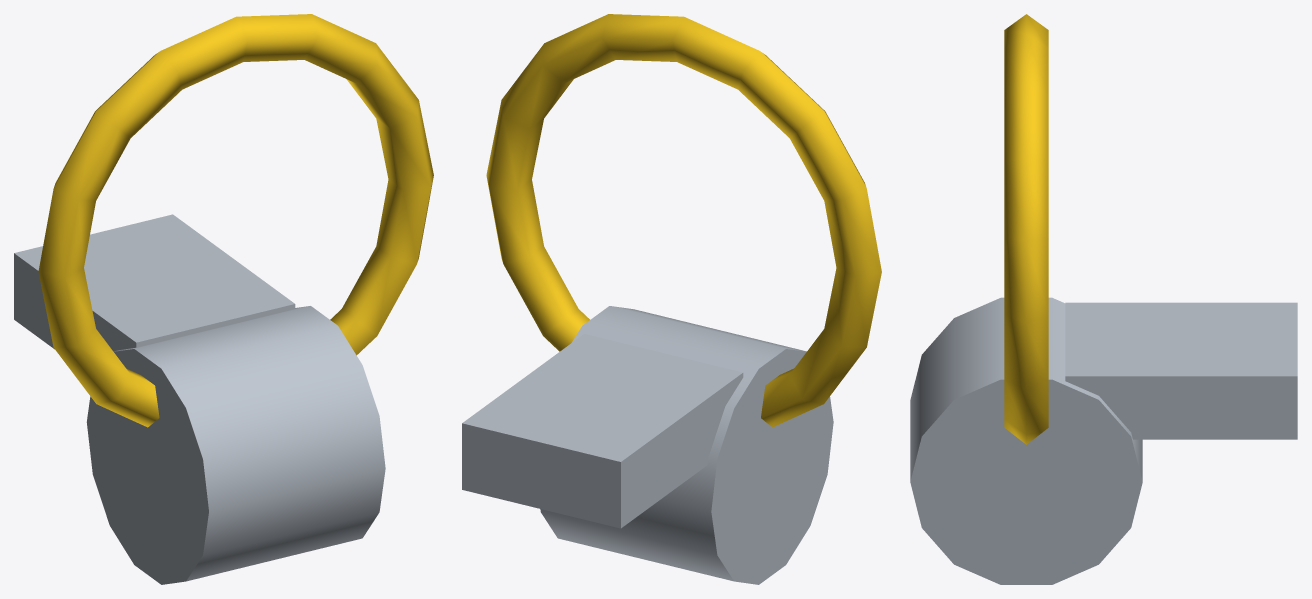
Rendered from whistle.glb.
The picture shows the model from 3 angles, left to right: view 1: azimuth 30°, elevation 25°; view 2: azimuth 150°, elevation 25°; view 3: azimuth 270°, elevation 25°; orthographic projection. The views are drawn at different scales.
Visible parts, largest first — view 1: whistle; view 2: whistle; view 3: whistle.
Boxes of the visible parts, left/top/right/bottom form: whistle: left=14, top=14, right=433, bottom=584; whistle: left=462, top=14, right=881, bottom=584; whistle: left=910, top=14, right=1297, bottom=584.
Bounding box in the file's own units: 0.112 × 0.1452 × 0.1.
